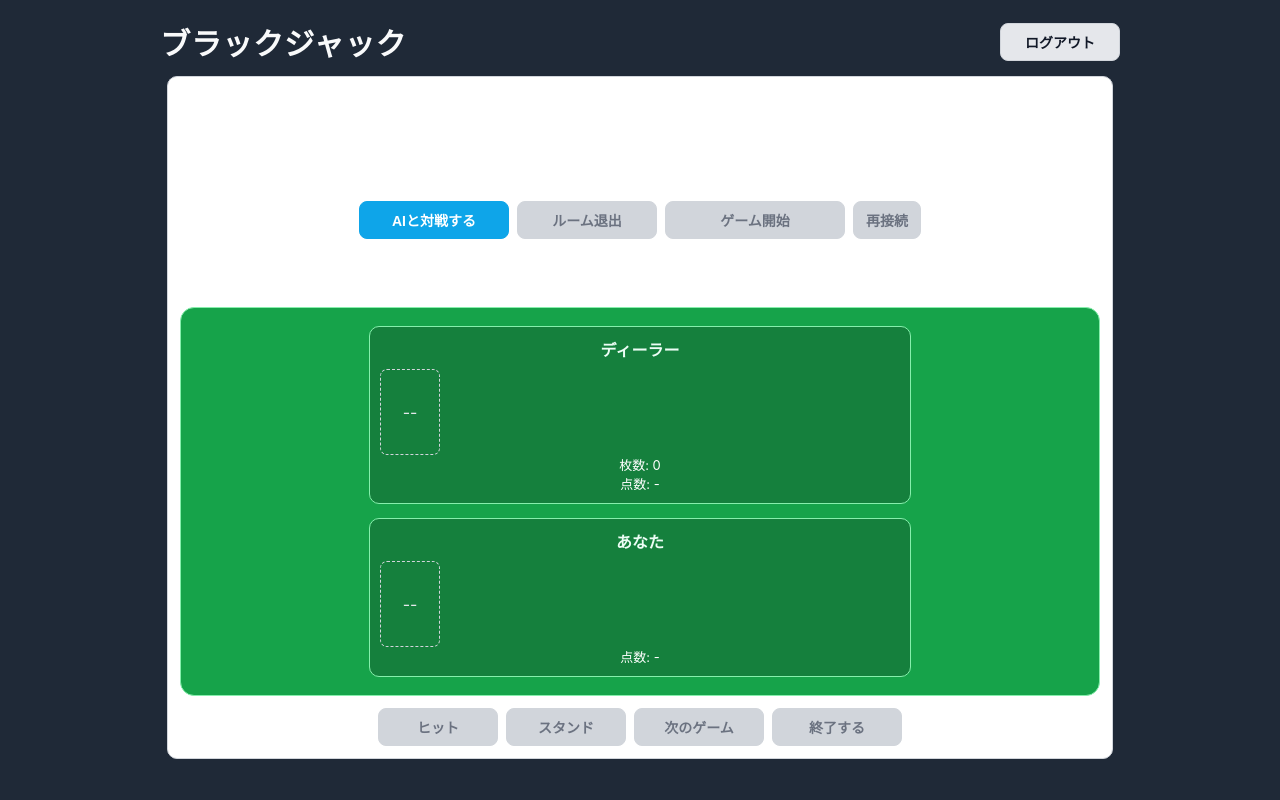
Scenario: App › shows rematch auto-end countdown in resetting phase
What coordinates should you click on to do the following:
click the button "AIと対戦する"
I would click on:
 (434, 220)
Its box is [359,201,509,239].
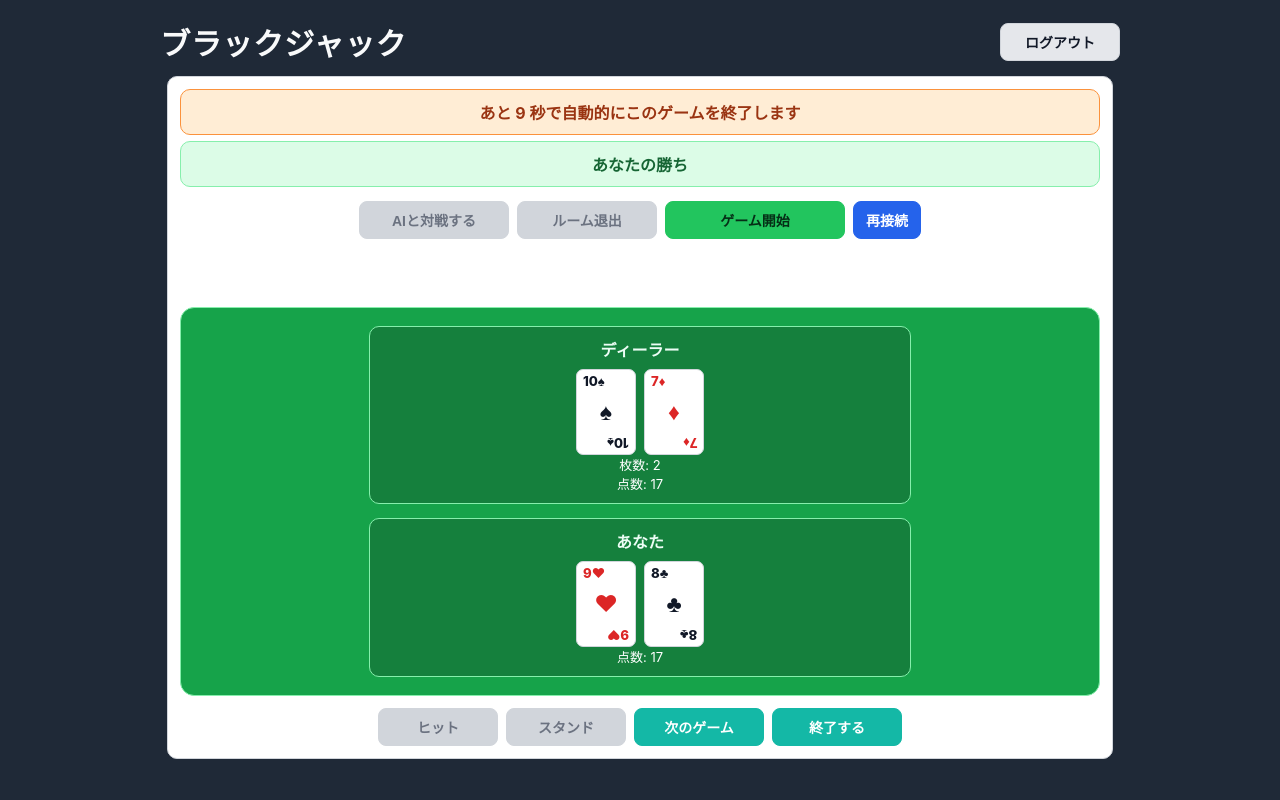
Check: the text "あと 9 秒で自動的にこのゲームを終了します" is shown, box [180,89,1100,135]
